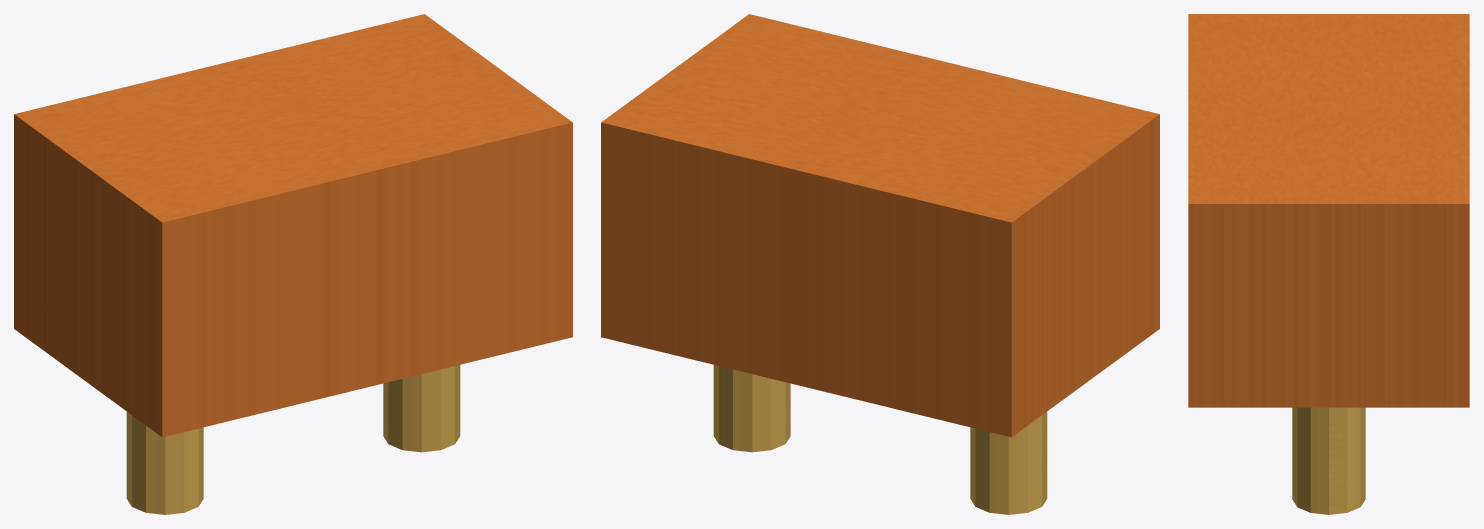
3 renders of one model, left to right at view 1: azimuth 30°, elevation 25°; view 2: azimuth 150°, elevation 25°; view 3: azimuth 270°, elevation 25°, orthographic. The views are drawn at different scales.
Parts seen in each view (by area): view 1: 344_L125_W433__PSMAT__orange, 344_L125_W433__PSMAT__gold; view 2: 344_L125_W433__PSMAT__orange, 344_L125_W433__PSMAT__gold; view 3: 344_L125_W433__PSMAT__orange, 344_L125_W433__PSMAT__gold.
Part boxes in pixels (bbox=[...]): 344_L125_W433__PSMAT__orange: bbox=[14, 14, 572, 437]; 344_L125_W433__PSMAT__gold: bbox=[126, 365, 460, 514]; 344_L125_W433__PSMAT__orange: bbox=[601, 14, 1159, 437]; 344_L125_W433__PSMAT__gold: bbox=[713, 365, 1047, 514]; 344_L125_W433__PSMAT__orange: bbox=[1188, 14, 1469, 407]; 344_L125_W433__PSMAT__gold: bbox=[1292, 407, 1365, 514].
Size of the model in its own units: 0.008 by 0.0065 by 0.005.
Materials: 2 (2 with a texture image).
